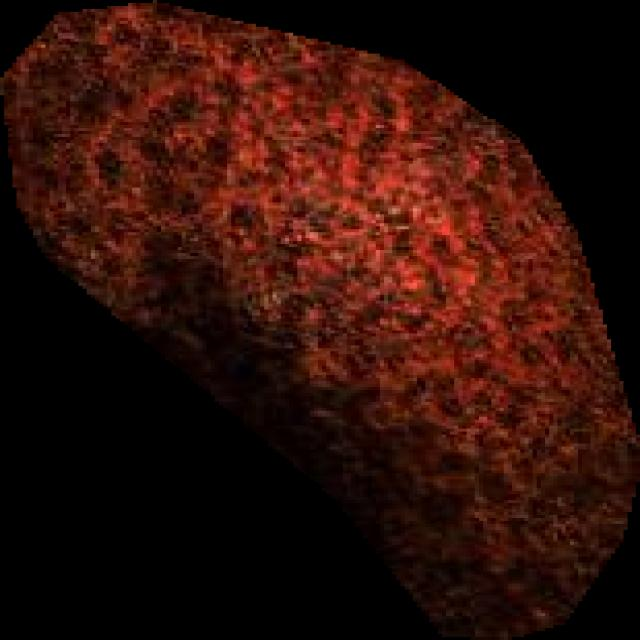Pitting Corrosion: (0, 0, 640, 640)
